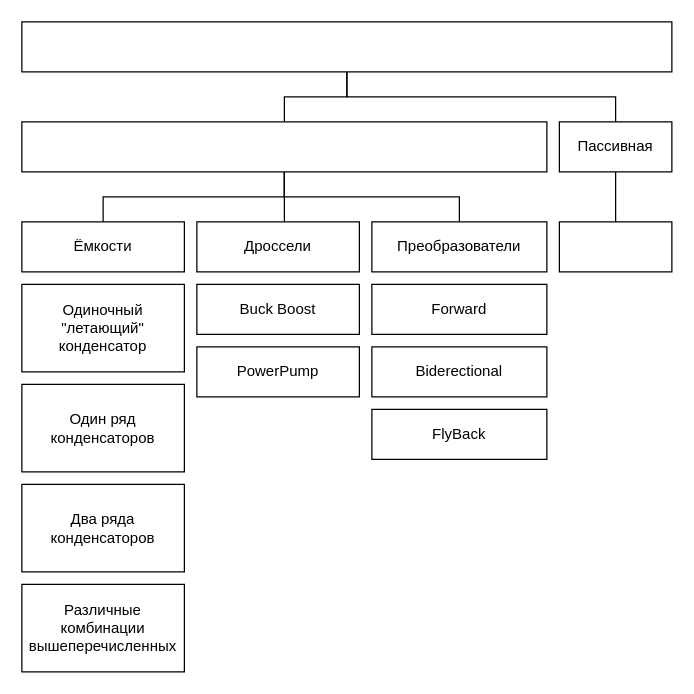
Image size: 694x694. Some labels were removed from this diagram. Each missing label, with the centre of its shape:
Активная: the point at 284,146
Балансировка ячеек: the point at 346,46
Резисторы: the point at 615,246
